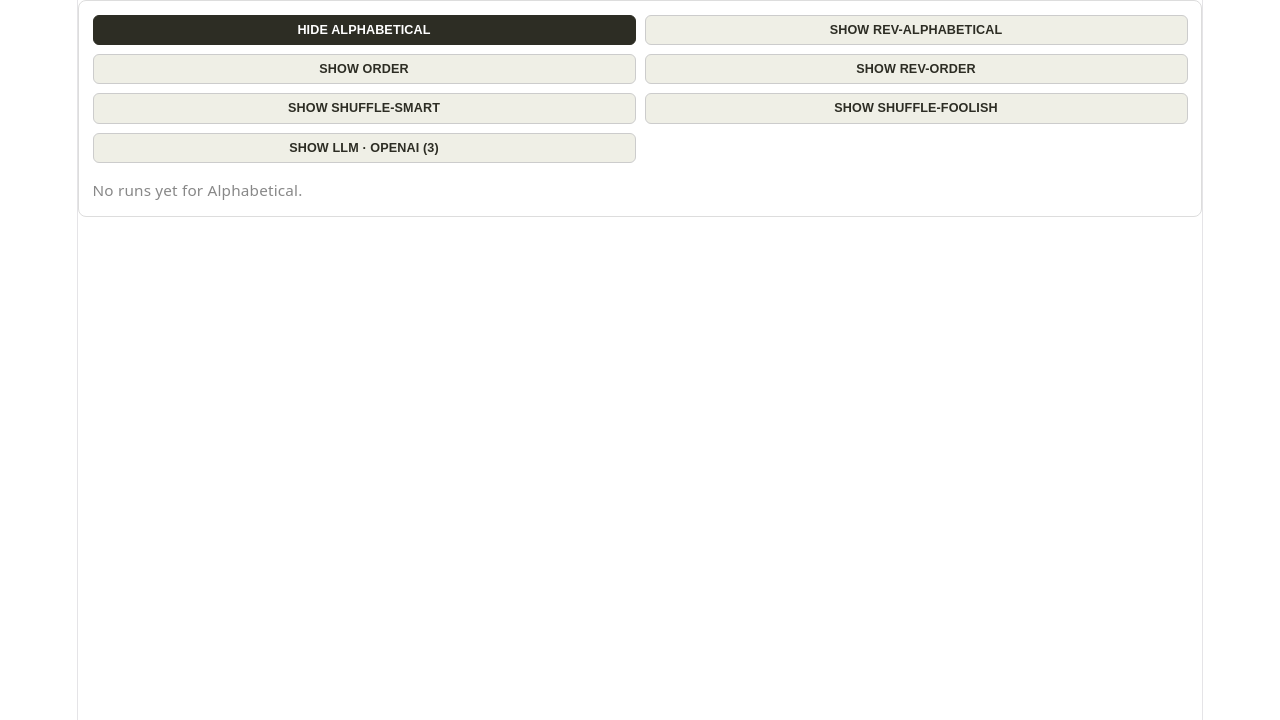
Test: GuessSequencePanel Component › shows LLM runs and renders duplicate + terminal statuses
Click the button "Show LLM · OpenAI (3)" at (364,148), box x1=92 y1=133 x2=636 y2=163
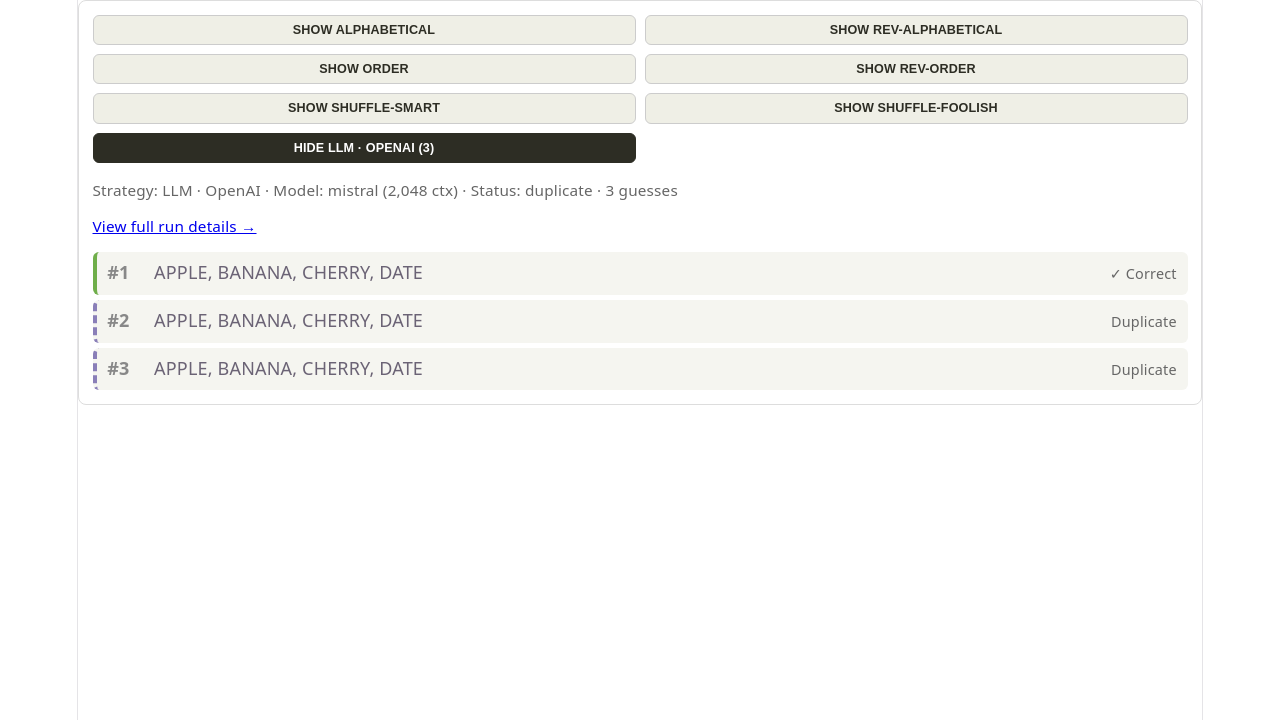
Expected: the text "Strategy: LLM · OpenAI · Model: mistral (2,048 ctx) · Status: duplicate · 3 guesses" is shown, x1=92 y1=180 x2=678 y2=200
Expected: the text "APPLE, BANANA, CHERRY, DATE" is shown 3 times, x1=154 y1=260 x2=423 y2=284; x1=154 y1=308 x2=423 y2=332; x1=154 y1=356 x2=423 y2=380
Expected: the text "Duplicate" is shown 2 times, x1=1111 y1=309 x2=1177 y2=335; x1=1111 y1=357 x2=1177 y2=383
